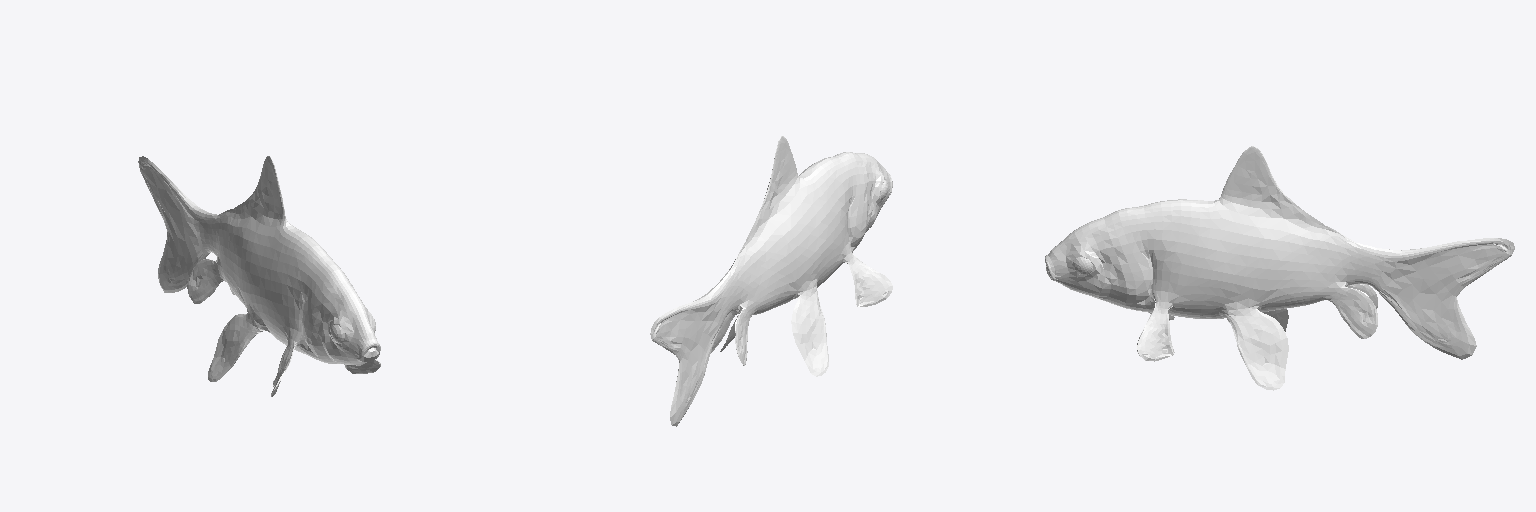
The model's file is crucian_carp.obj.
The picture shows the model from 3 angles: view 1: azimuth 30°, elevation 25°; view 2: azimuth 150°, elevation 25°; view 3: azimuth 270°, elevation 25°; orthographic projection.
Parts seen in each view (by area): view 1: g_polySurface13_fish_low_meshId0_name, g_fish_low_polySurface10_meshId8_name, g_fish_low_polySurface5_meshId2_name, g_fish_low_polySurface12_meshId7_name, g_fish_low_polySurface8_meshId6_name; view 2: g_polySurface13_fish_low_meshId0_name, g_fish_low_polySurface10_meshId8_name, g_fish_low_polySurface5_meshId2_name, g_fish_low_polySurface12_meshId7_name, g_fish_low_polySurface2_meshId4_name, g_fish_low_polySurface8_meshId6_name; view 3: g_polySurface13_fish_low_meshId0_name, g_fish_low_polySurface10_meshId8_name, g_fish_low_polySurface4_meshId1_name, g_fish_low_polySurface12_meshId7_name, g_fish_low_polySurface7_meshId5_name, g_fish_low_polySurface1_meshId3_name.
Part boxes in pixels (left/top/right/bottom): g_polySurface13_fish_low_meshId0_name: left=194, top=202, right=380, bottom=365; g_fish_low_polySurface10_meshId8_name: left=138, top=156, right=208, bottom=292; g_fish_low_polySurface5_meshId2_name: left=208, top=311, right=257, bottom=381; g_fish_low_polySurface12_meshId7_name: left=244, top=156, right=287, bottom=226; g_fish_low_polySurface8_meshId6_name: left=187, top=259, right=222, bottom=303; g_polySurface13_fish_low_meshId0_name: left=709, top=152, right=892, bottom=323; g_fish_low_polySurface10_meshId8_name: left=650, top=291, right=721, bottom=426; g_fish_low_polySurface5_meshId2_name: left=791, top=291, right=828, bottom=376; g_fish_low_polySurface12_meshId7_name: left=756, top=136, right=799, bottom=219; g_fish_low_polySurface2_meshId4_name: left=843, top=252, right=892, bottom=306; g_fish_low_polySurface8_meshId6_name: left=735, top=308, right=749, bottom=365; g_polySurface13_fish_low_meshId0_name: left=1045, top=199, right=1396, bottom=319; g_fish_low_polySurface10_meshId8_name: left=1378, top=238, right=1514, bottom=359; g_fish_low_polySurface4_meshId1_name: left=1228, top=307, right=1288, bottom=390; g_fish_low_polySurface12_meshId7_name: left=1219, top=146, right=1303, bottom=218; g_fish_low_polySurface7_meshId5_name: left=1332, top=287, right=1377, bottom=338; g_fish_low_polySurface1_meshId3_name: left=1137, top=302, right=1174, bottom=361.
Bounding box in the file's own units: 0.5328 × 1.03 × 2.